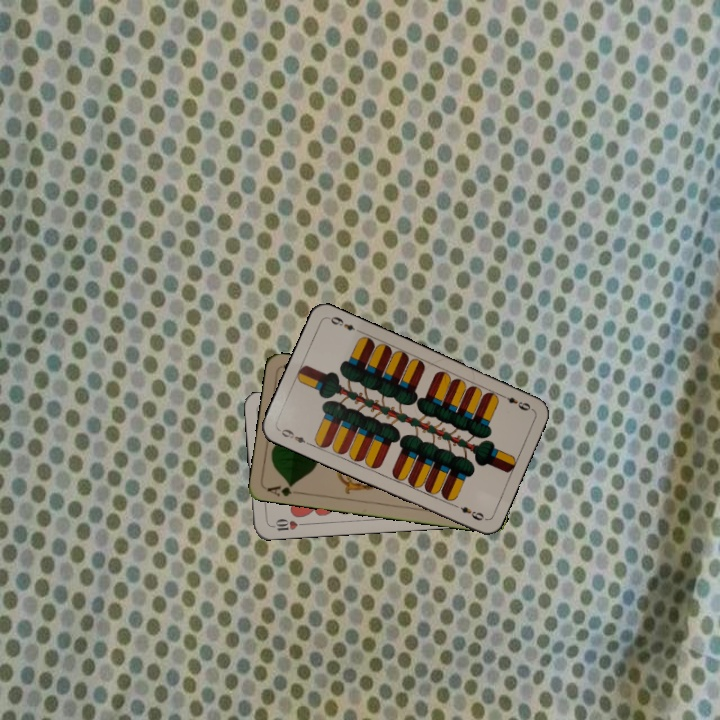E9: (275, 425, 313, 448), (497, 390, 535, 413)
GA: (263, 479, 304, 499)
H10: (267, 515, 307, 533)
